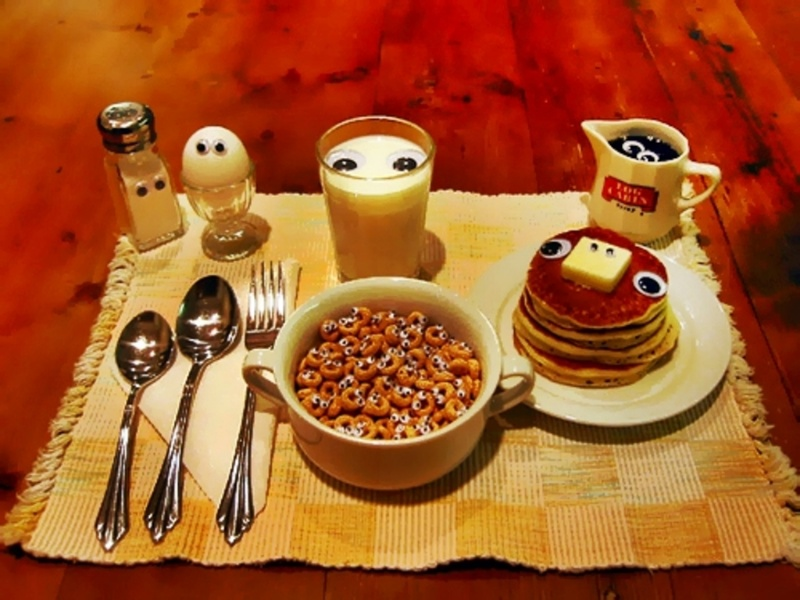cup: (574, 105, 722, 235)
dining table: (2, 2, 798, 599)
